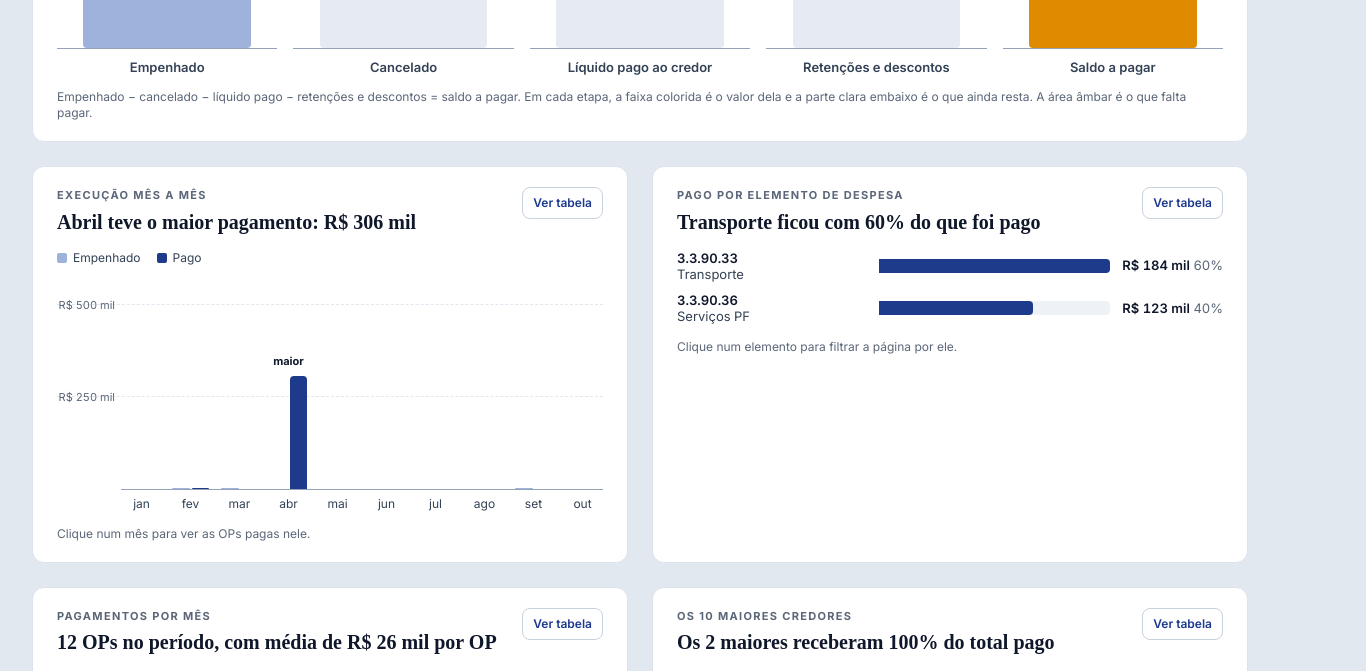
Test: Tela Análises › mês atual: o recorte para no fim efetivo; truncado mostra "Mostrando 500 de N"
The image size is (1366, 671).
(page scrolled)
Click the button named "Outubro: empenhado" at (582,384), box [562,280,603,488]
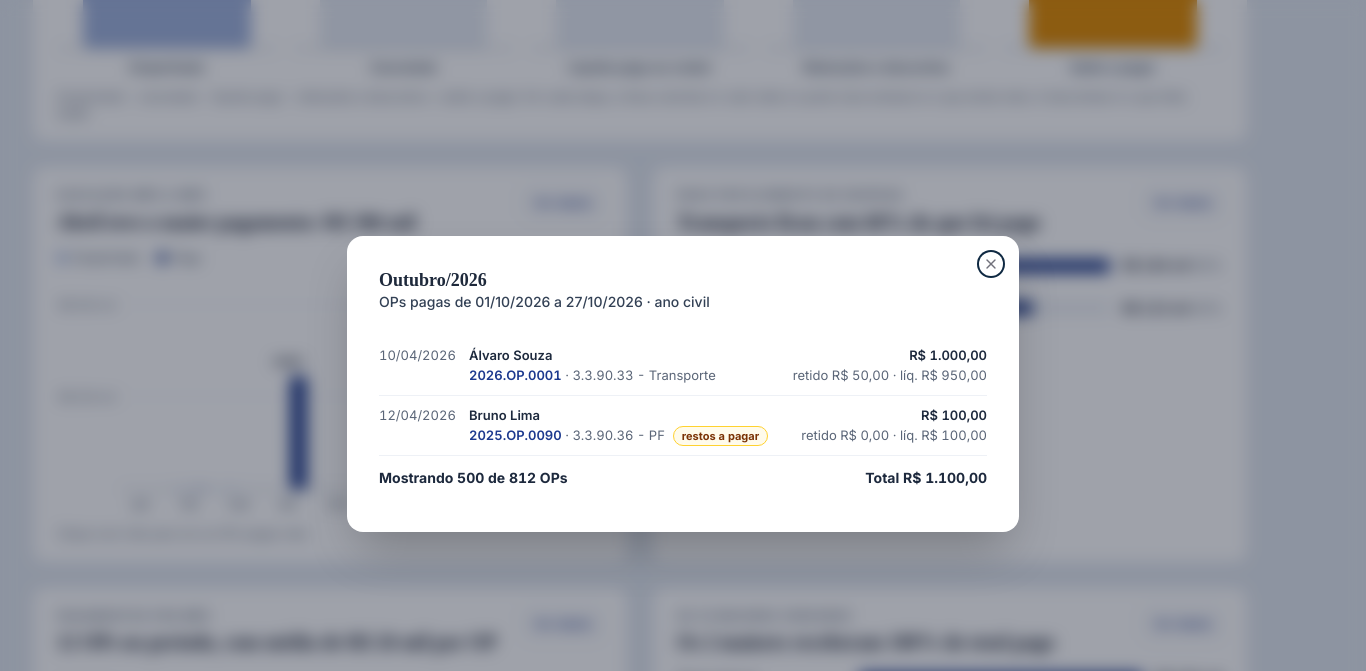
Expected: the text "Álvaro Souza" is shown, [469,347,552,363]
Expected: the text "Mostrando 500 de 812 OPs" is shown, [379,468,568,488]
